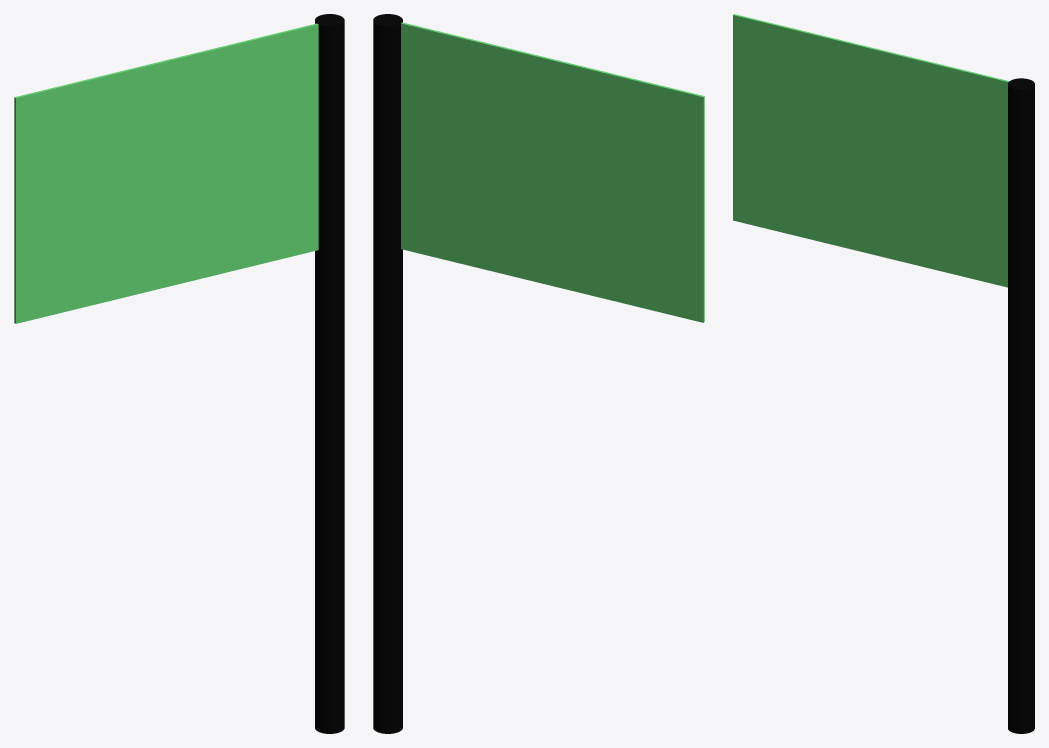
The model's file is flag.gltf.
3 views of the same model, side by side, from view 1: azimuth 30°, elevation 25°; view 2: azimuth 150°, elevation 25°; view 3: azimuth 330°, elevation 25° (orthographic). The views are drawn at different scales.
Parts seen in each view (by area): view 1: Cylinder; view 2: Cylinder; view 3: Cylinder.
Part boxes in pixels (x1,y1,x2,y2): Cylinder: (14, 14, 344, 733); Cylinder: (373, 14, 704, 733); Cylinder: (733, 14, 1034, 733).
Size of the model in its own units: 25.41 by 52.29 by 2.
